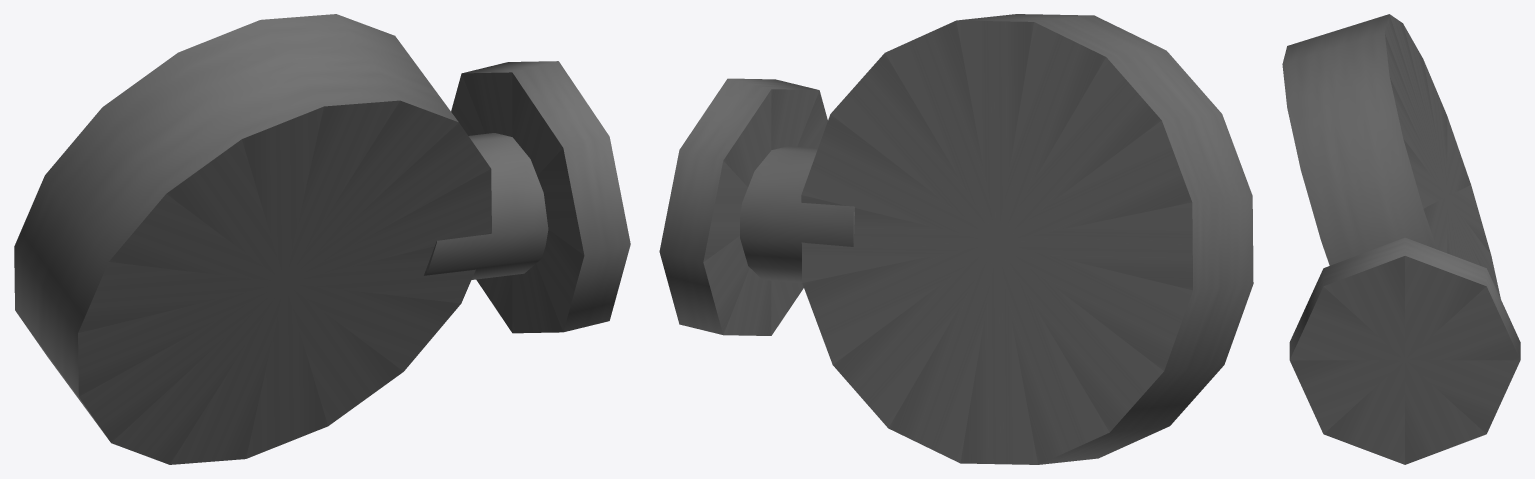
Rendered from mastarmcurve_8x2_c3_east.obj.
3 renders of one model, left to right at view 1: azimuth 30°, elevation 25°; view 2: azimuth 150°, elevation 25°; view 3: azimuth 270°, elevation 25°, orthographic. The views are drawn at different scales.
Visible parts, largest first — view 1: mastarm_8x2_c3_east; view 2: mastarm_8x2_c3_east; view 3: mastarm_8x2_c3_east.
Part boxes in pixels (left/top/right/bottom): mastarm_8x2_c3_east: left=14, top=14, right=630, bottom=464; mastarm_8x2_c3_east: left=659, top=14, right=1253, bottom=464; mastarm_8x2_c3_east: left=1282, top=14, right=1520, bottom=464.
Size of the model in its own units: 0.8315 by 0.6891 by 0.4125.
